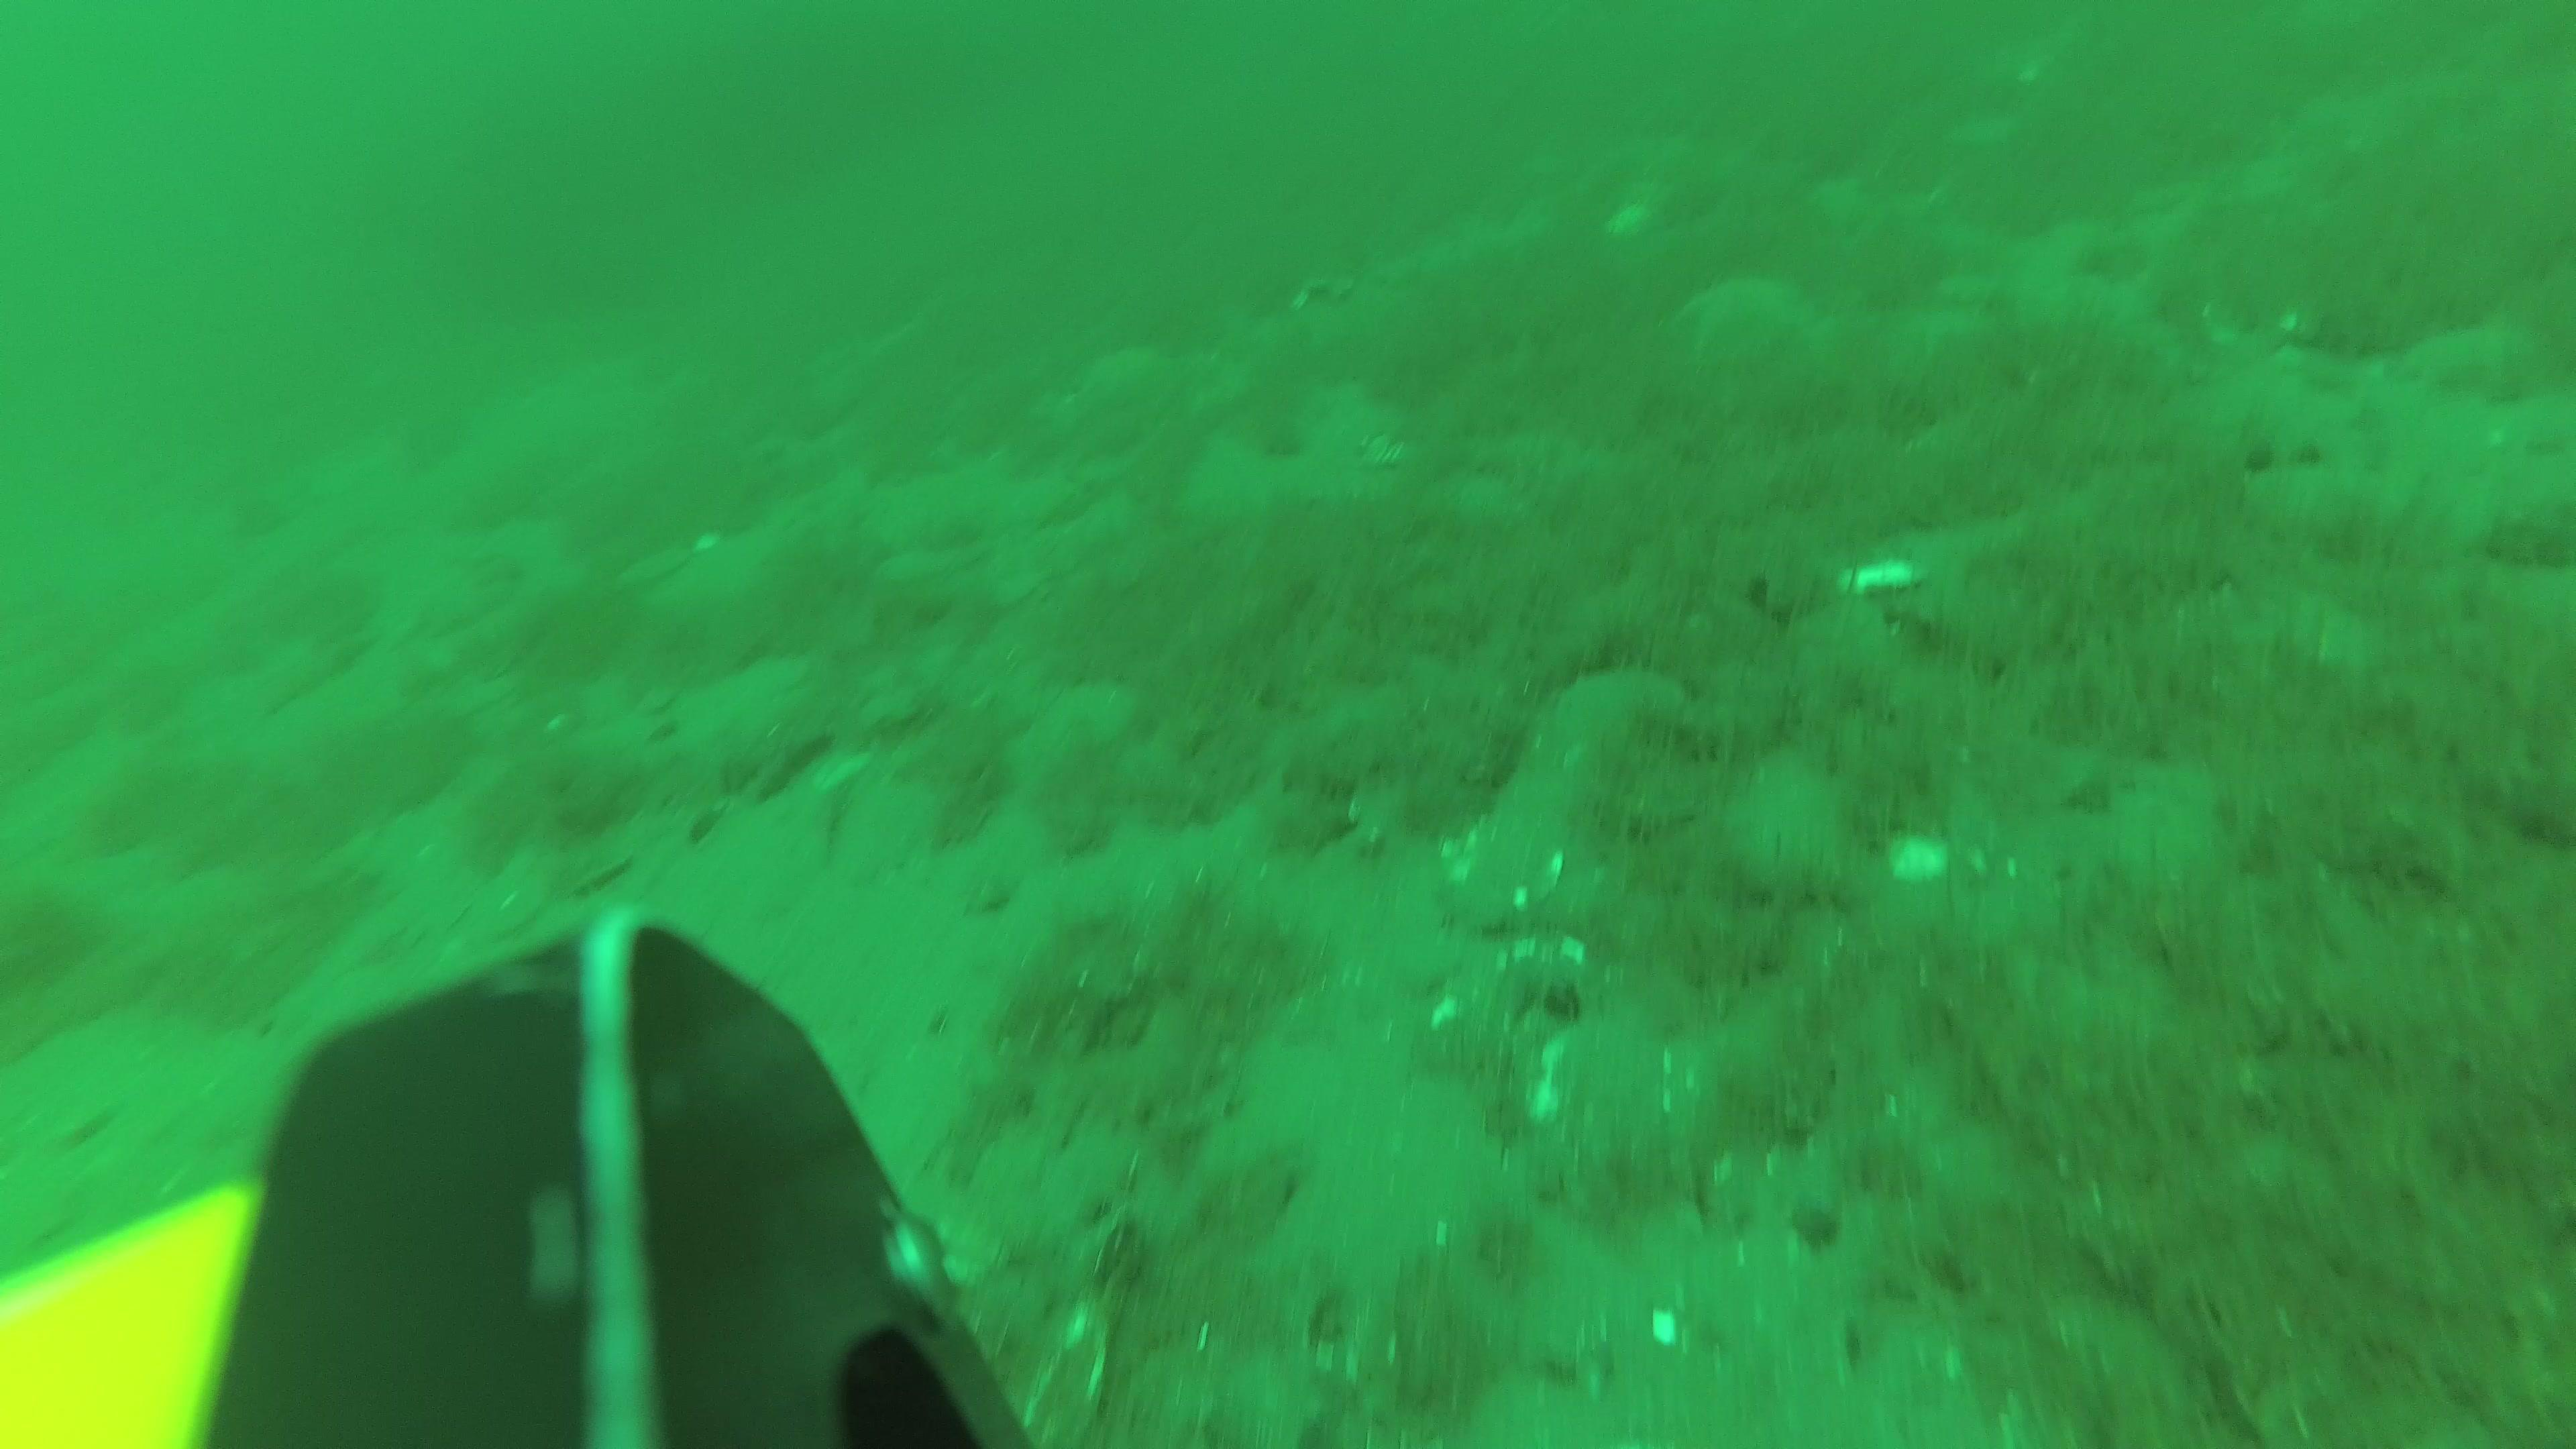scallop: (1560, 671, 1684, 755), (619, 547, 688, 586)
starfish: (1679, 276, 1806, 363)
